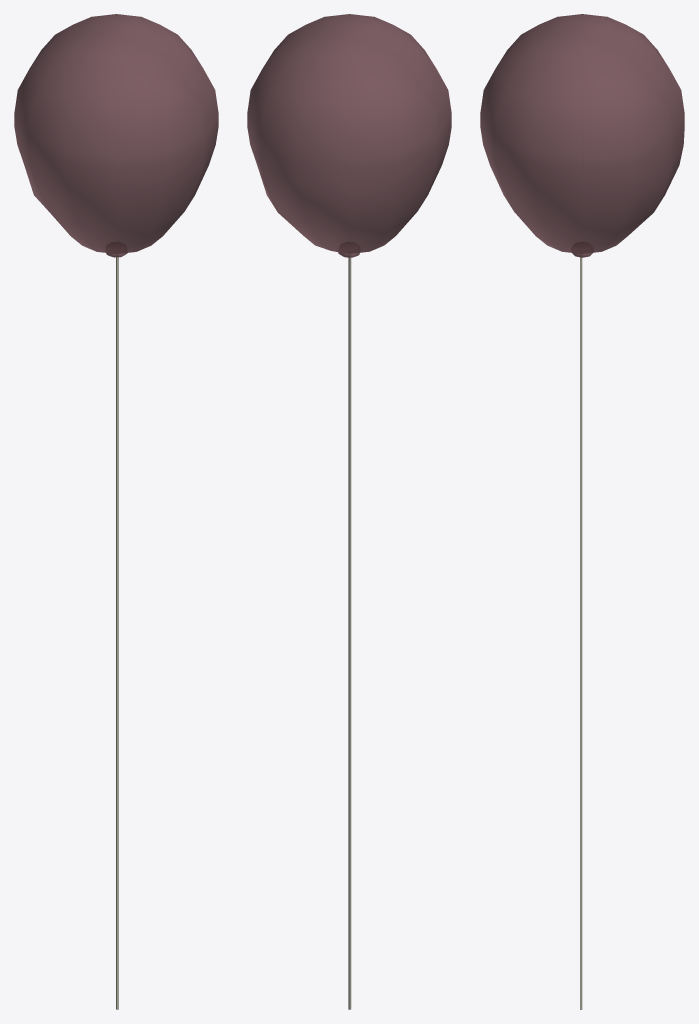
File: Balloon_Purple.fbx
3 views of the same model, side by side, from view 1: azimuth 30°, elevation 25°; view 2: azimuth 150°, elevation 25°; view 3: azimuth 270°, elevation 25° (orthographic).
Visible parts, largest first — view 1: Balloon_Purple; view 2: Balloon_Purple; view 3: Balloon_Purple.
Part boxes in pixels (left/top/right/bottom): Balloon_Purple: left=14, top=14, right=218, bottom=1009; Balloon_Purple: left=247, top=14, right=451, bottom=1009; Balloon_Purple: left=480, top=14, right=684, bottom=1009.
Bounding box in the file's own units: 49.42 × 263 × 49.42.
